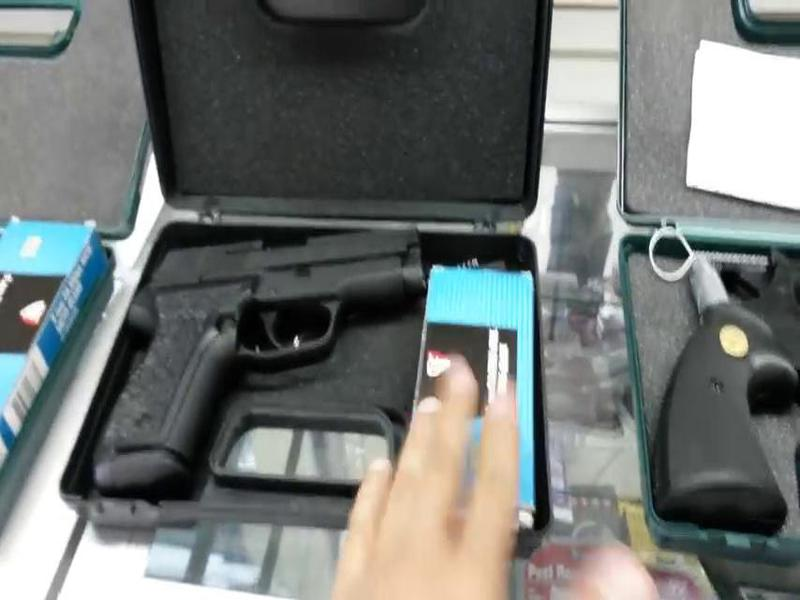Pistola: (112, 205, 437, 518)
